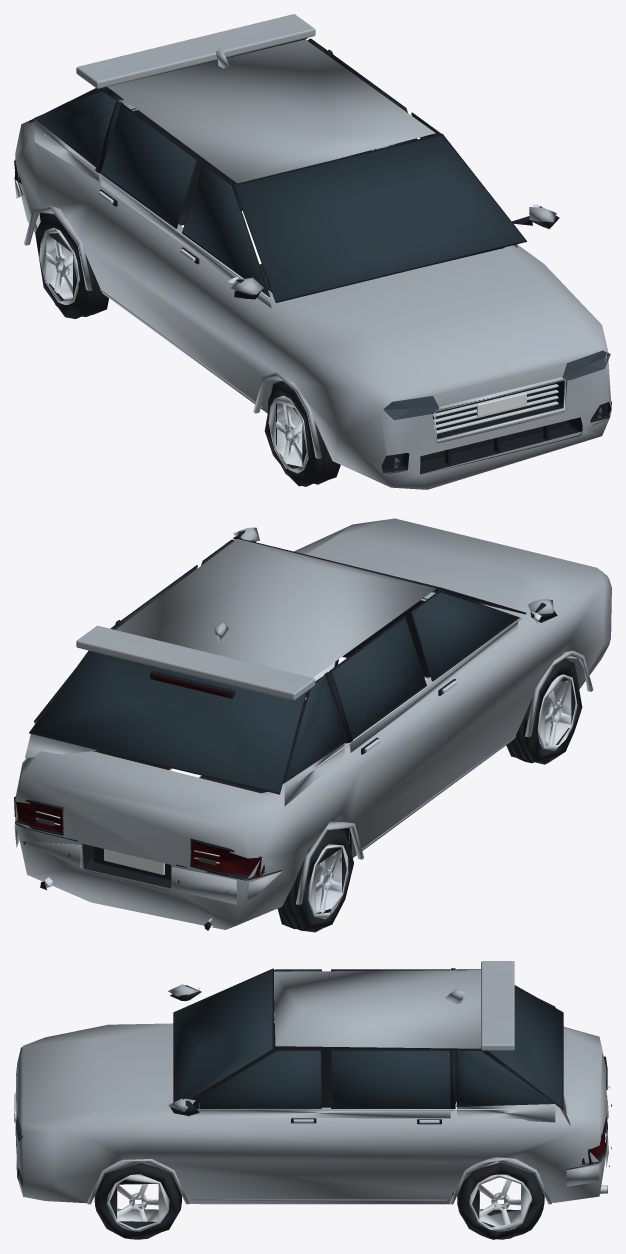
The model's file is car-hatch-silver.glb.
3 renders of one model, top to bottom at view 1: azimuth 30°, elevation 25°; view 2: azimuth 150°, elevation 25°; view 3: azimuth 270°, elevation 25°, orthographic. The views are drawn at different scales.
Parts seen in each view (by area): view 1: Aerodynamic mirror painted cap, Front side door glass, Aerodynamic mirror lower housing, 107 reused Alloy_five_spoke_rim, 107 reused Sculpted_tyre, Clear reversing lens insert, Front license plate; view 2: Aerodynamic mirror painted cap, Front side door glass, Aerodynamic mirror lower housing, 107 reused Alloy_five_spoke_rim, 107 reused Sculpted_tyre, Flush corner wrapping ruby lamp lens, Front license plate; view 3: Aerodynamic mirror painted cap, Front side door glass, 107 reused Sculpted_tyre, Aerodynamic mirror lower housing, 107 reused Alloy_five_spoke_rim.
Part boxes in pixels (x1,y1,x2,y2): Aerodynamic mirror painted cap: (14, 14, 611, 489); Front side door glass: (31, 38, 525, 301); Aerodynamic mirror lower housing: (14, 38, 611, 474); 107 reused Alloy_five_spoke_rim: (39, 133, 566, 473); 107 reused Sculpted_tyre: (35, 214, 340, 486); Clear reversing lens insert: (383, 350, 610, 468); Front license plate: (477, 393, 526, 416); Aerodynamic mirror painted cap: (14, 518, 611, 929); Front side door glass: (30, 541, 523, 792); Aerodynamic mirror lower housing: (14, 530, 557, 930); 107 reused Alloy_five_spoke_rim: (36, 539, 577, 929); 107 reused Sculpted_tyre: (277, 658, 582, 932); Flush corner wrapping ruby lamp lens: (15, 675, 260, 876); Front license plate: (104, 849, 164, 874); Aerodynamic mirror painted cap: (16, 961, 608, 1204); Front side door glass: (174, 969, 562, 1108); 107 reused Sculpted_tyre: (94, 1064, 544, 1239); Aerodynamic mirror lower housing: (15, 968, 611, 1204); 107 reused Alloy_five_spoke_rim: (15, 987, 607, 1231).
Size of the model in its own units: 6.91 by 5.19 by 13.98.
Materials: 8 (8 with a texture image).
